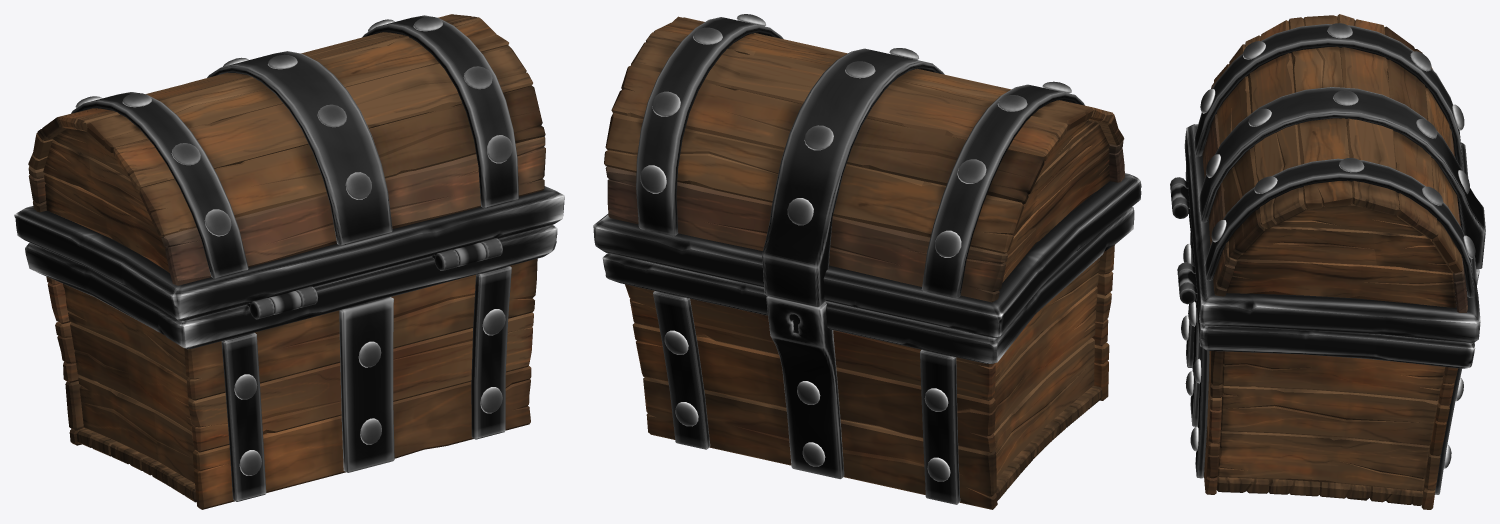
3 views of the same model, side by side, from view 1: azimuth 30°, elevation 25°; view 2: azimuth 150°, elevation 25°; view 3: azimuth 270°, elevation 25° (orthographic). The views are drawn at different scales.
Parts seen in each view (by area): view 1: Cube.009, Cube.039; view 2: Cube.009, Cube.039; view 3: Cube.009, Cube.039.
Part boxes in pixels (<box>): Cube.009: <box>14,14,564,321</box>; Cube.039: <box>25,224,557,509</box>; Cube.009: <box>593,14,1141,337</box>; Cube.039: <box>602,206,1134,509</box>; Cube.009: <box>1170,14,1485,343</box>; Cube.039: <box>1170,165,1479,509</box>.
Size of the model in its own units: 4.37 by 3.82 by 3.17.
Materials: 2 (2 with a texture image).
